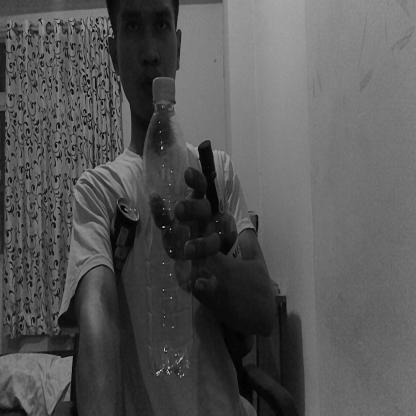alumunium_can: (109, 196, 140, 288)
objects: (198, 138, 256, 357)
plastic_bottles: (142, 72, 194, 380)
